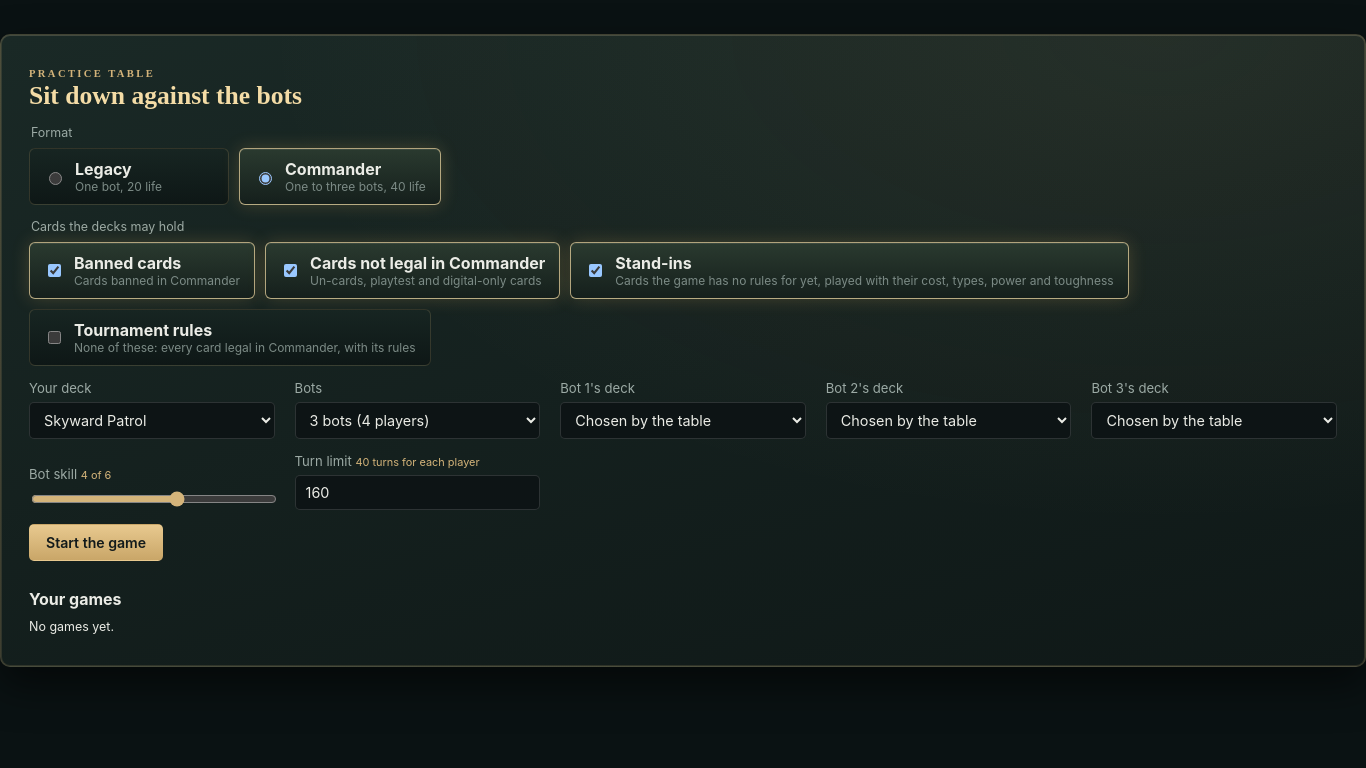
Test: the practice table for a player (v0.3.1) › lists only their own decks, opens where they have one and plays the first
Check: the radio button labelled "Commander One to three bots, 40 life" is checked, box [259,172,272,184]
Check: the dropdown labelled "Your deck" shows "Skyward Patrol", box [29,402,275,439]
Click the button "Start the game": click(96, 542) [29,524,163,561]
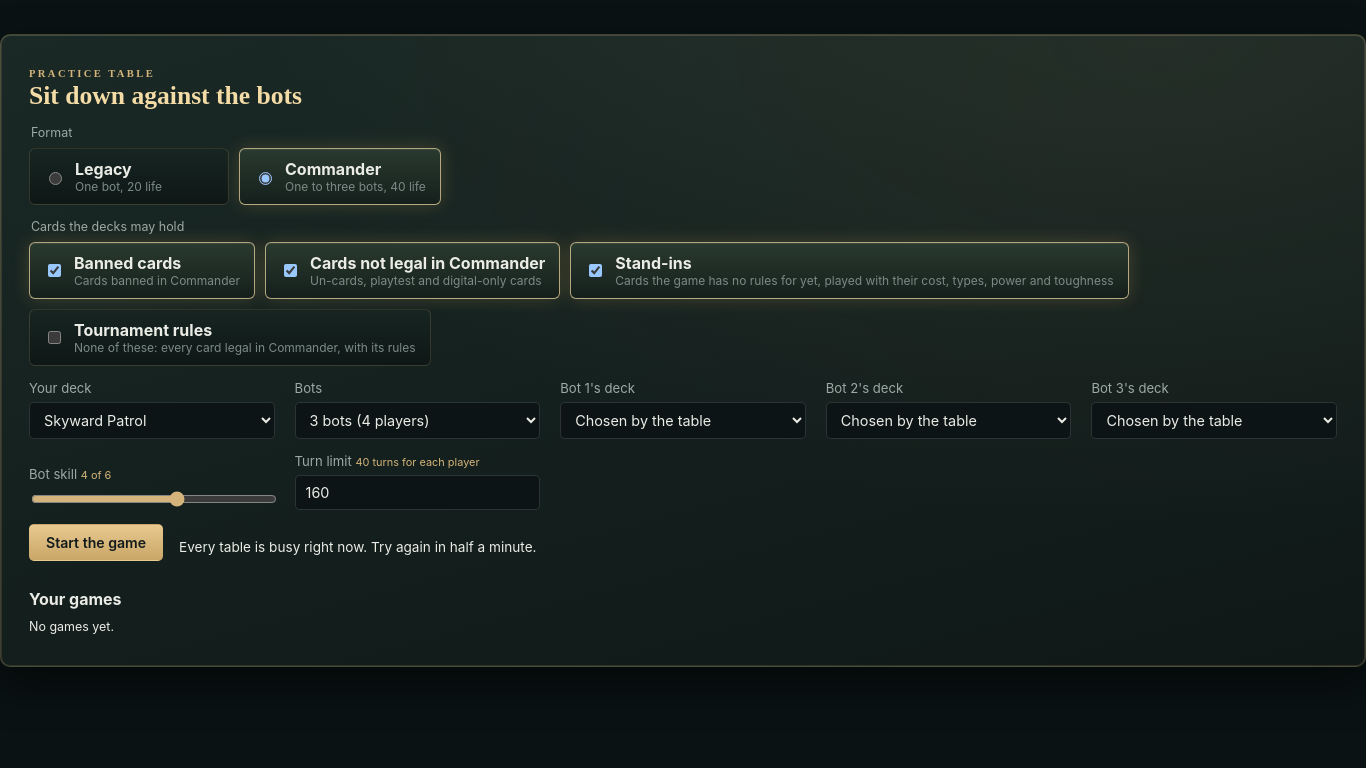
Check: the message shows "busy", box [179,538,536,554]
